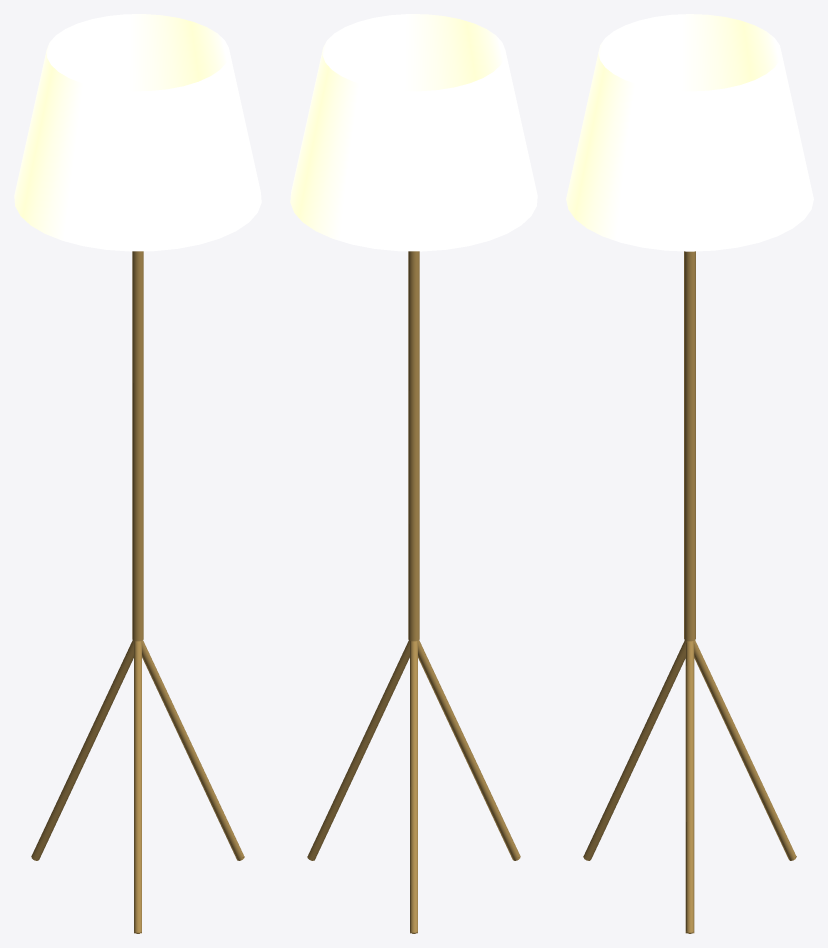
File: floor_lamp.glb
3 renders of one model, left to right at view 1: azimuth 30°, elevation 25°; view 2: azimuth 150°, elevation 25°; view 3: azimuth 270°, elevation 25°, orthographic.
Size of the model in its own units: 0.46 by 1.7 by 0.46.
